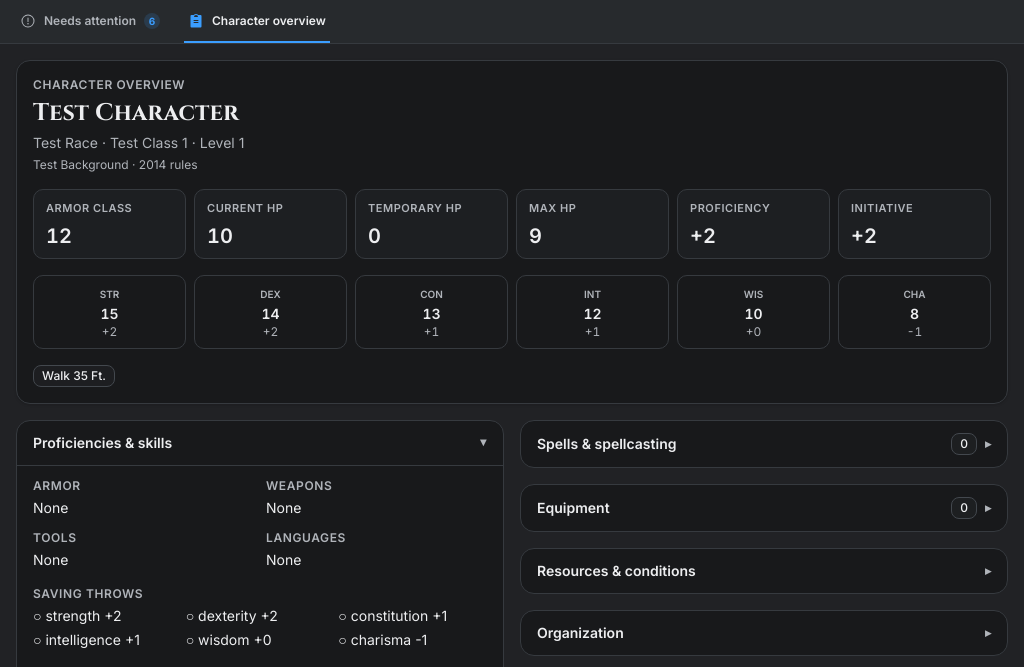
Test: BuildReviewPage › renders catalog organization descriptions as game content
The image size is (1024, 667).
Click the text "Organization" at [580, 633], box [537,623,624,643]
(page scrolled)
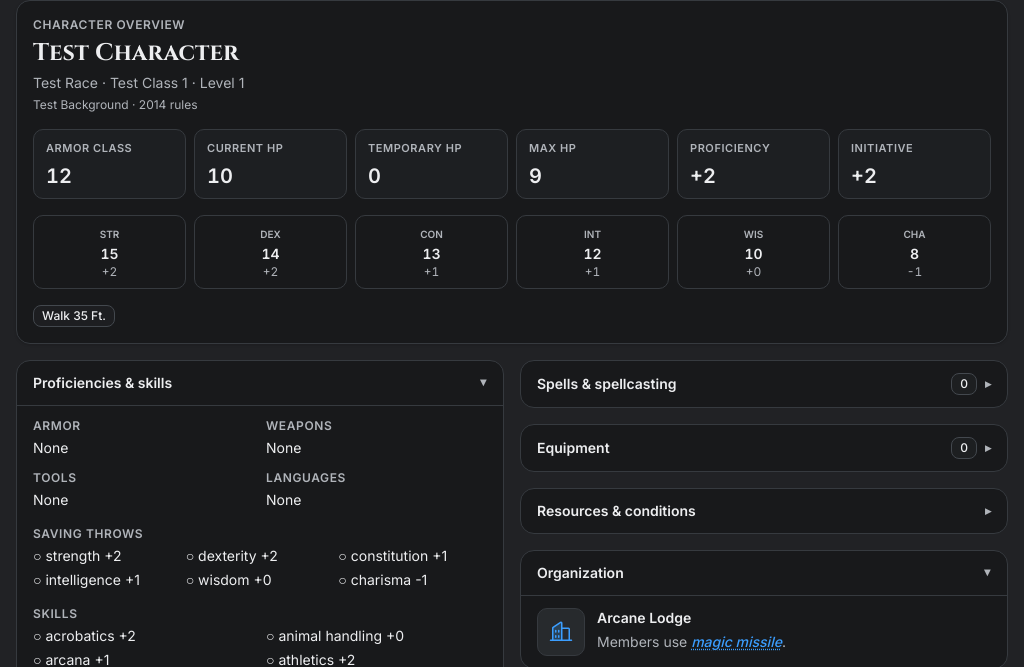
Expected: the heading "Arcane Lodge" is shown, [597,609,691,626]
Expected: the button "magic missile" is shown, [691,633,782,650]
